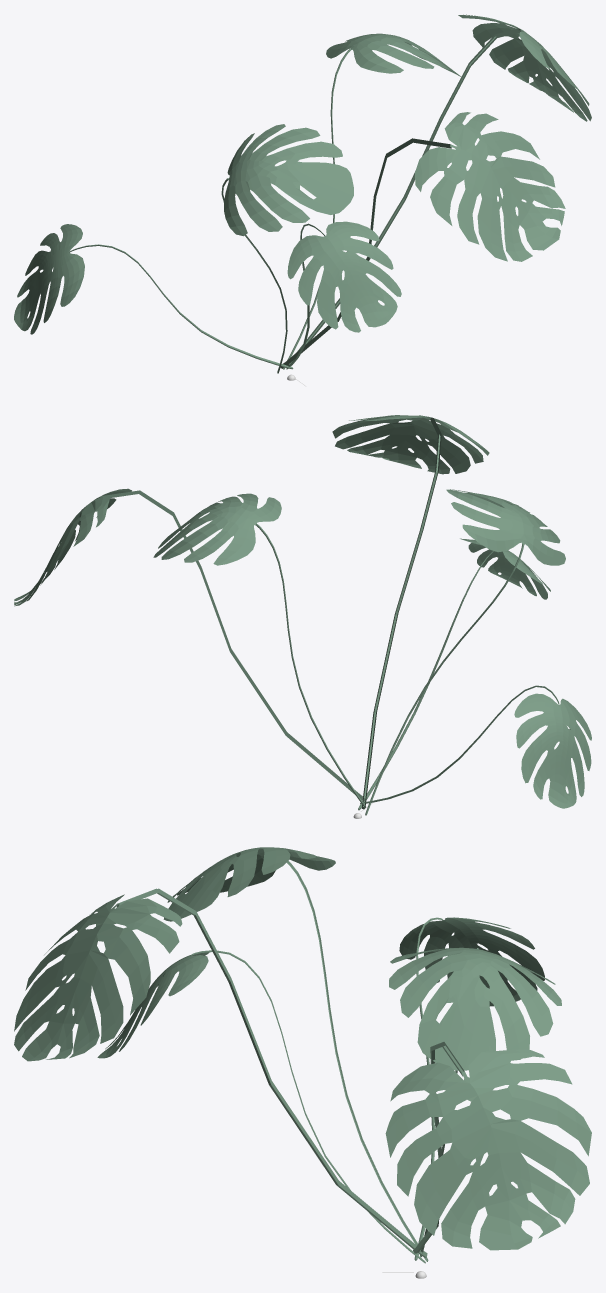
File: Monstera.fbx
3 renders of one model, top to bottom at view 1: azimuth 30°, elevation 25°; view 2: azimuth 150°, elevation 25°; view 3: azimuth 270°, elevation 25°, orthographic. The views are drawn at different scales.
Parts seen in each view (by area): view 1: Monstera 1|Monstera 1 Leaf|Dupli|1, Monstera 2|Monstera 3 Leaf|Dupli|1, Monstera 3|Monstera 2 Leaf|Dupli|, Monstera 1|Monstera 1 Leaf|Dupli|, Monstera 3|Monstera 2 Leaf|Dupli|1, Monstera 2|Monstera 3 Leaf|Dupli|; view 2: Monstera 1|Monstera 1 Leaf|Dupli|1, Monstera 3|Monstera 2 Leaf|Dupli|1, Monstera 2|Monstera 3 Leaf|Dupli|, Monstera 2|Monstera 3 Leaf|Dupli|1, Monstera 1|Monstera 1 Leaf|Dupli|, Monstera 3|Monstera 2 Leaf|Dupli|; view 3: Monstera 1|Monstera 1 Leaf|Dupli|, Monstera 1|Monstera 1 Leaf|Dupli|1, Monstera 2|Monstera 3 Leaf|Dupli|, Monstera 2|Monstera 3 Leaf|Dupli|1, Monstera 3|Monstera 2 Leaf|Dupli|1, Monstera 3|Monstera 2 Leaf|Dupli|.
Part boxes in pixels (box(x1,y1,x2,y2)): Monstera 1|Monstera 1 Leaf|Dupli|1: box(280, 112, 565, 368); Monstera 2|Monstera 3 Leaf|Dupli|1: box(221, 124, 353, 373); Monstera 3|Monstera 2 Leaf|Dupli|: box(286, 221, 401, 369); Monstera 1|Monstera 1 Leaf|Dupli|: box(287, 14, 591, 365); Monstera 3|Monstera 2 Leaf|Dupli|1: box(14, 224, 293, 369); Monstera 2|Monstera 3 Leaf|Dupli|: box(283, 33, 462, 369); Monstera 1|Monstera 1 Leaf|Dupli|1: box(332, 415, 489, 809); Monstera 3|Monstera 2 Leaf|Dupli|1: box(360, 685, 591, 808); Monstera 2|Monstera 3 Leaf|Dupli|: box(153, 493, 365, 807); Monstera 2|Monstera 3 Leaf|Dupli|1: box(365, 489, 565, 815); Monstera 1|Monstera 1 Leaf|Dupli|: box(14, 488, 365, 801); Monstera 3|Monstera 2 Leaf|Dupli|: box(358, 538, 550, 810); Monstera 1|Monstera 1 Leaf|Dupli|: box(385, 1042, 591, 1253); Monstera 1|Monstera 1 Leaf|Dupli|1: box(14, 888, 427, 1257); Monstera 2|Monstera 3 Leaf|Dupli|: box(389, 947, 561, 1257); Monstera 2|Monstera 3 Leaf|Dupli|1: box(163, 847, 428, 1261); Monstera 3|Monstera 2 Leaf|Dupli|1: box(399, 917, 544, 1260); Monstera 3|Monstera 2 Leaf|Dupli|: box(97, 950, 425, 1263).
Bounding box in the file's own units: 2440 × 1329 × 1705.
